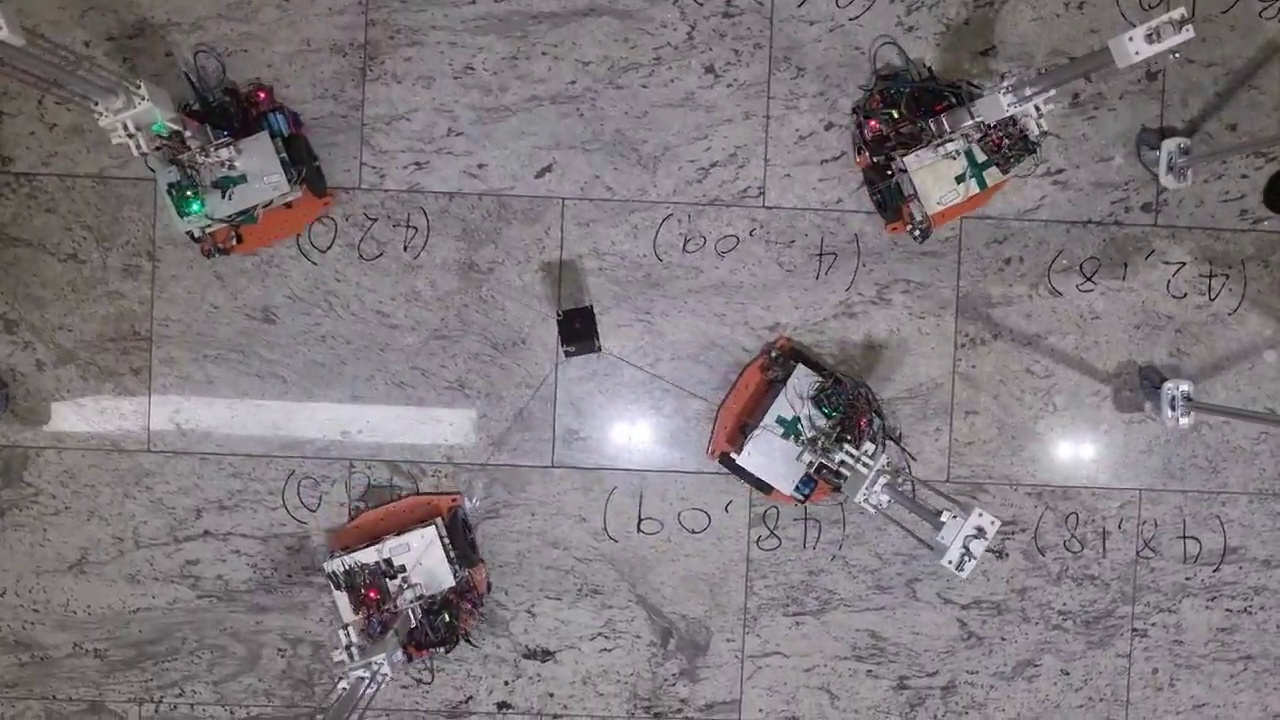e0: (555, 304, 602, 357)
r1: (718, 349, 831, 497)
r2: (862, 122, 1024, 224)
r3: (166, 132, 328, 244)
r4: (324, 505, 481, 608)
y_+_axis_vector: (764, 207, 1155, 224)
y_-_axis_vector: (360, 188, 764, 207)
